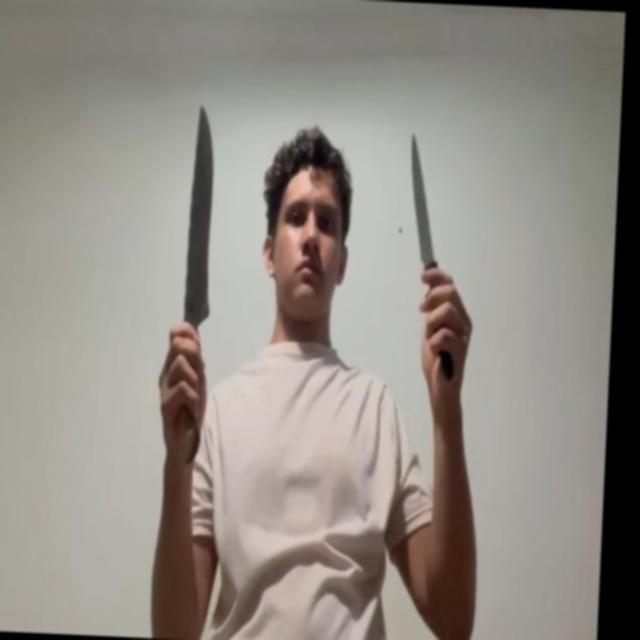Sharp-Object: (181, 102, 218, 327), (405, 132, 438, 263)
